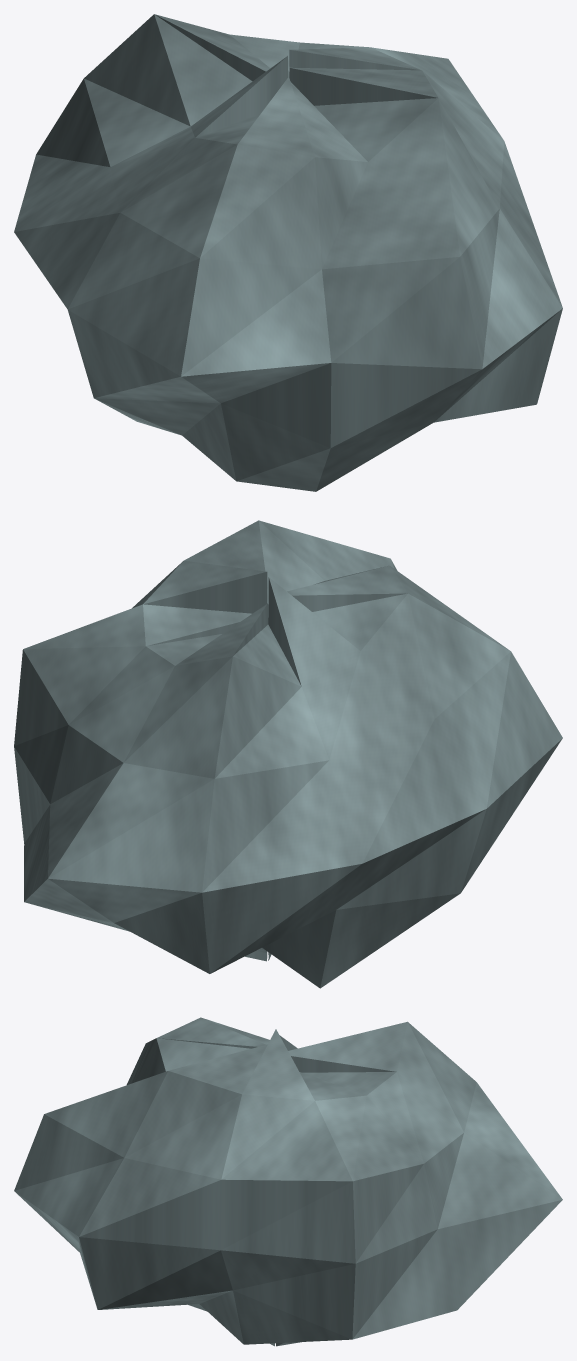
The model's file is roadside_rock_03.glb.
The picture shows the model from 3 angles, top to bottom: view 1: azimuth 30°, elevation 25°; view 2: azimuth 150°, elevation 25°; view 3: azimuth 270°, elevation 25°; orthographic projection. The views are drawn at different scales.
Parts seen in each view (by area): view 1: rock; view 2: rock; view 3: rock.
Boxes of the visible parts, box(x1,y1,x2,y2) form: rock: box(14, 14, 562, 491); rock: box(14, 520, 562, 988); rock: box(14, 1017, 562, 1346).
Bounding box in the file's own units: 2.11 × 1.88 × 2.95.
Materials: 1 (1 with a texture image).
